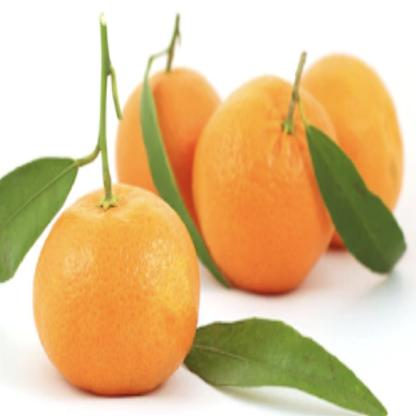fresh: (37, 59, 404, 400)
